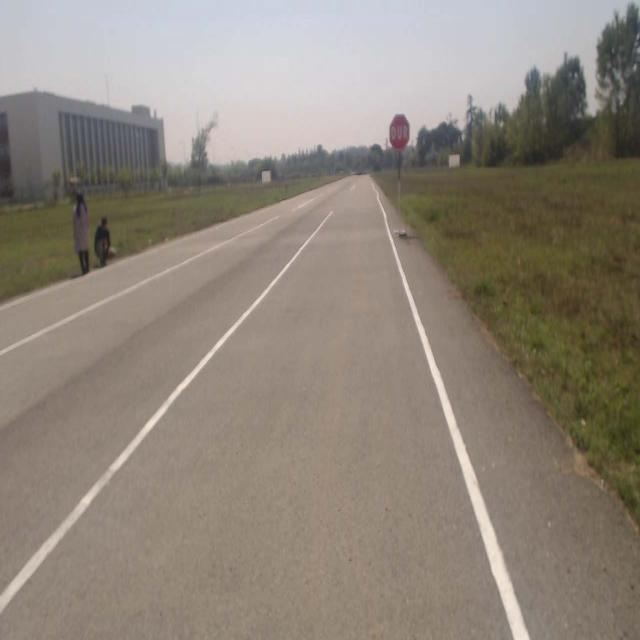dur: (389, 115, 408, 149)
